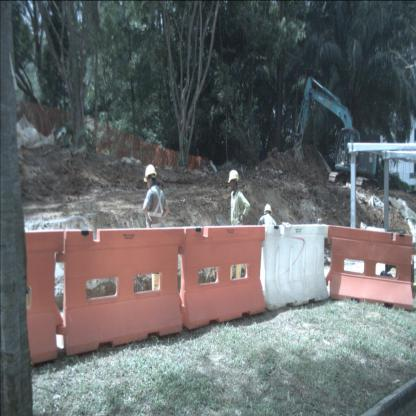barrier: (56, 227, 184, 355), (178, 225, 266, 331), (0, 229, 64, 367), (326, 225, 416, 311), (259, 223, 329, 311)
